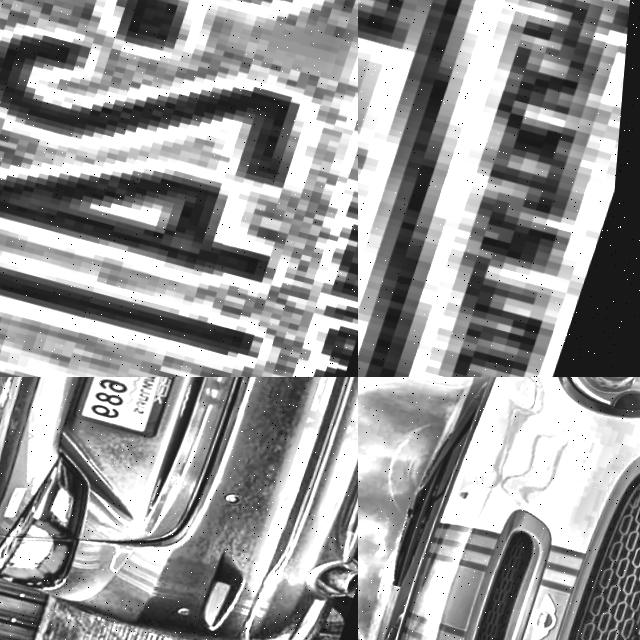license-plate: (0, 0, 358, 377), (358, 0, 640, 377), (61, 377, 210, 442)
